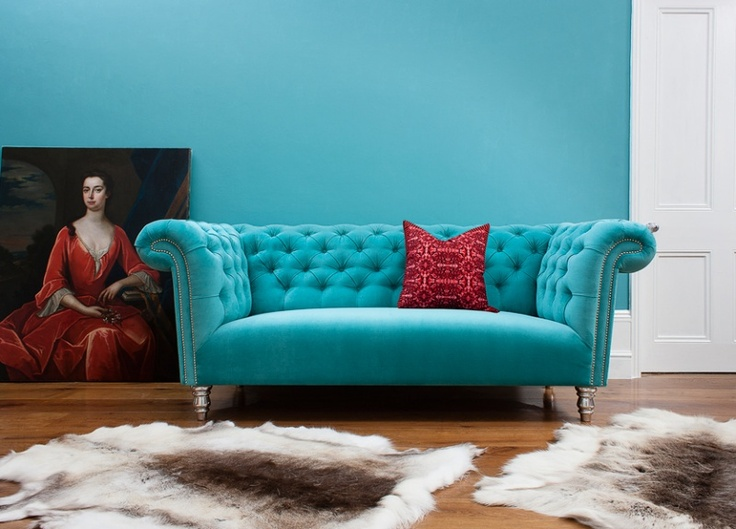chairs: (134, 219, 657, 425)
